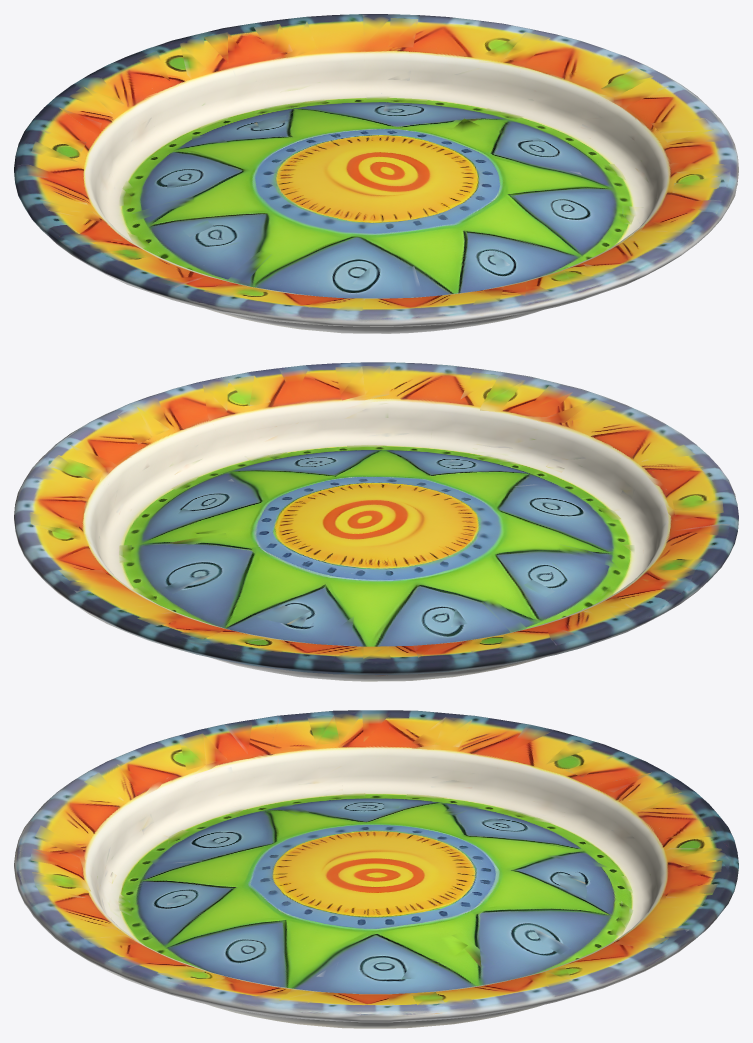
The model's file is fiesta_dinner_plate_0308230008_texture.glb.
3 views of the same model, one above another, from view 1: azimuth 30°, elevation 25°; view 2: azimuth 150°, elevation 25°; view 3: azimuth 270°, elevation 25° (orthographic).
Parts seen in each view (by area): view 1: Mesh_0.001; view 2: Mesh_0.001; view 3: Mesh_0.001.
Part boxes in pixels (<box>): Mesh_0.001: <box>14,14,738,333</box>; Mesh_0.001: <box>14,362,738,681</box>; Mesh_0.001: <box>14,710,738,1028</box>.
Bounding box in the file's own units: 0.3159 × 0.0254 × 0.3172.
1 material, 1 textured.
